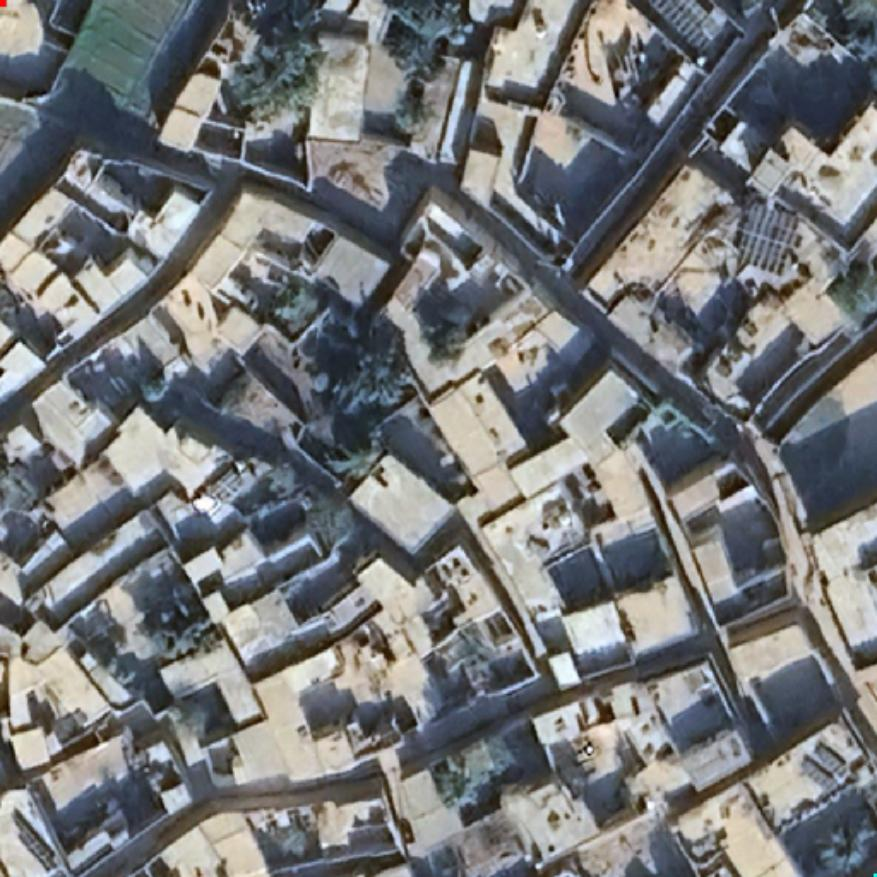Solarpanel: (734, 201, 801, 277), (643, 0, 727, 56), (7, 808, 64, 873), (808, 740, 854, 784), (794, 756, 839, 797), (203, 468, 247, 503)
